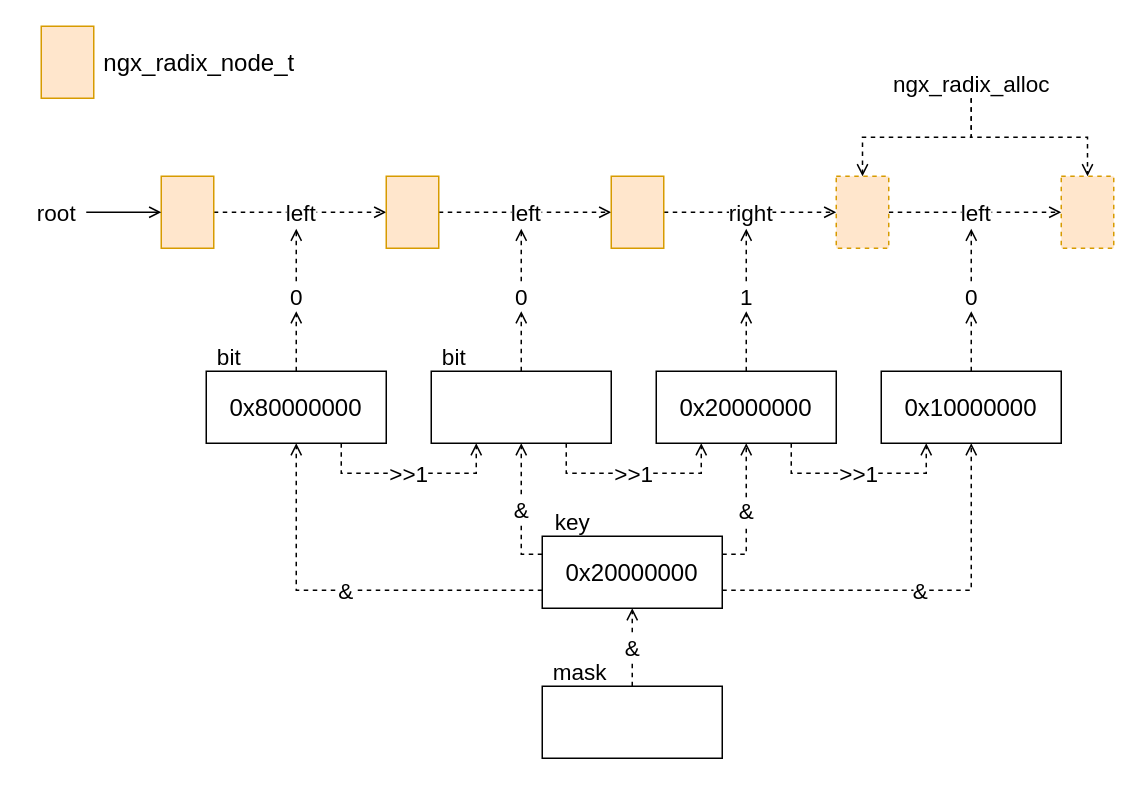
Image size: 1140x785. Some labels were removed from this diagram. Here are the shapes that lost their labels. From the top down, the centre of each, then its label:
At [520,406]: "0x40000000".
At [631,721]: "0xF0000000".
